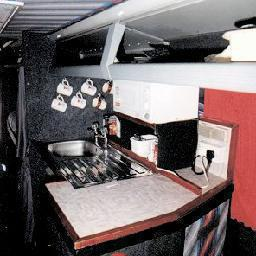Lavaplatos: (50, 110, 140, 181)
